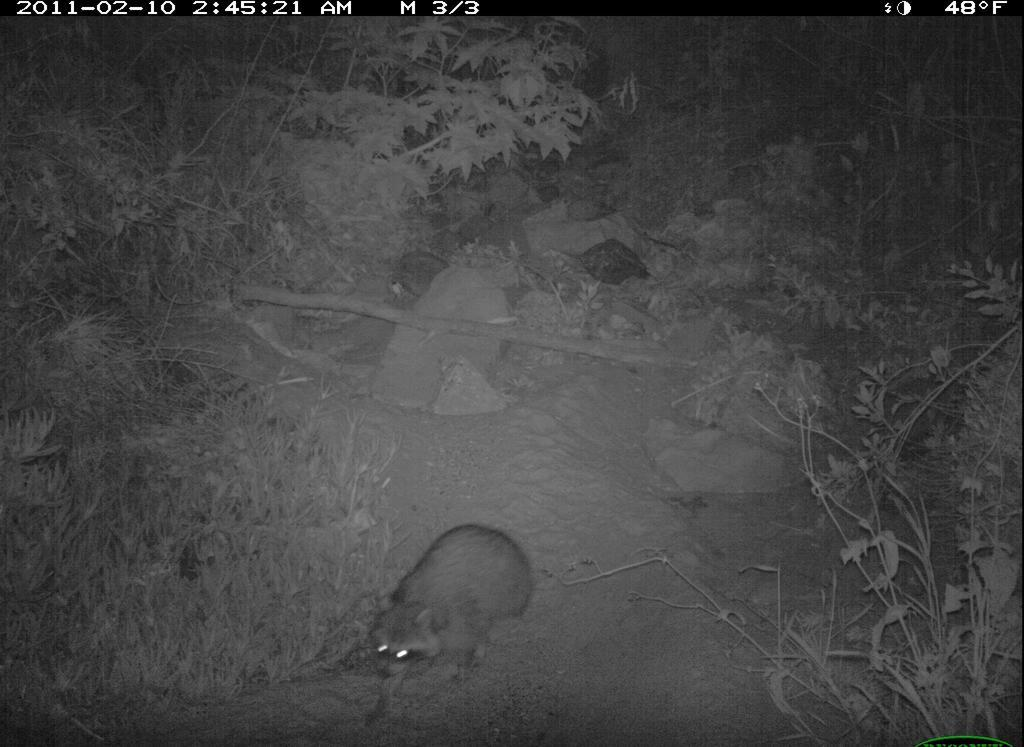raccoon: (363, 509, 546, 708)
